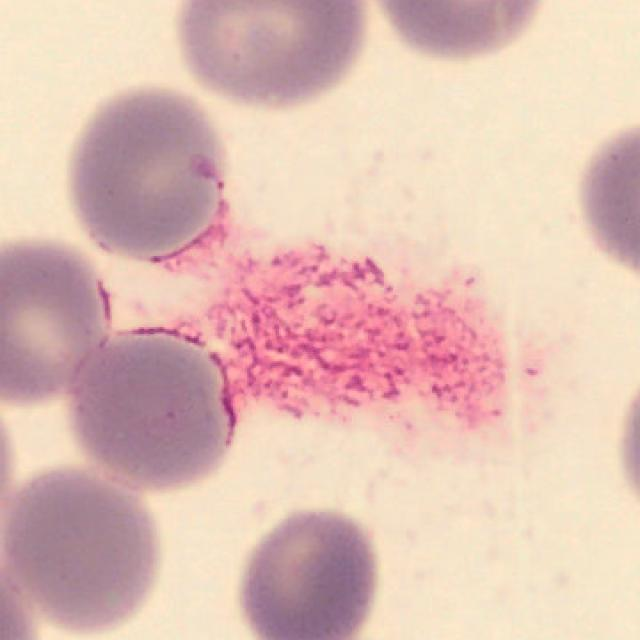Artefato: (110, 206, 512, 443)
